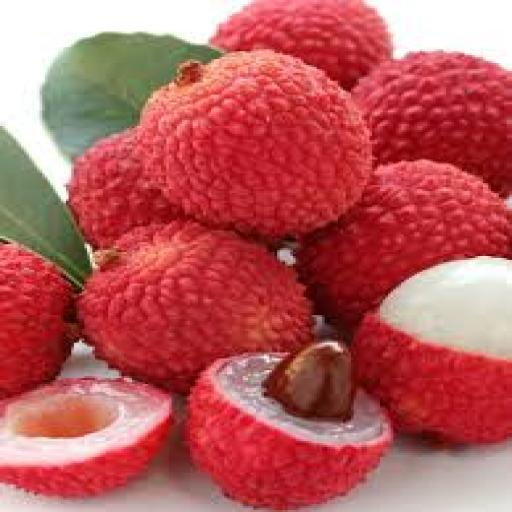lychee: (138, 52, 372, 238), (80, 221, 311, 391), (299, 160, 509, 324), (188, 343, 393, 510), (354, 258, 511, 443), (354, 52, 511, 192), (0, 379, 171, 498), (212, 0, 393, 88), (69, 130, 179, 248), (0, 245, 73, 397)
